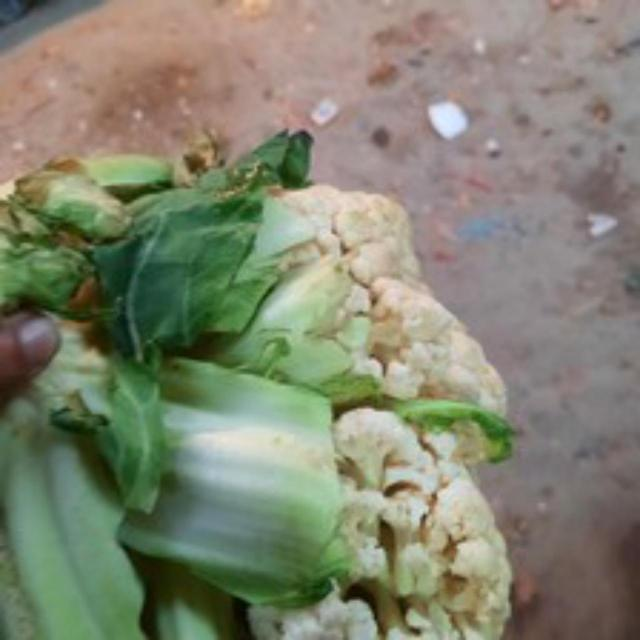cauliflower: (0, 131, 540, 637)
